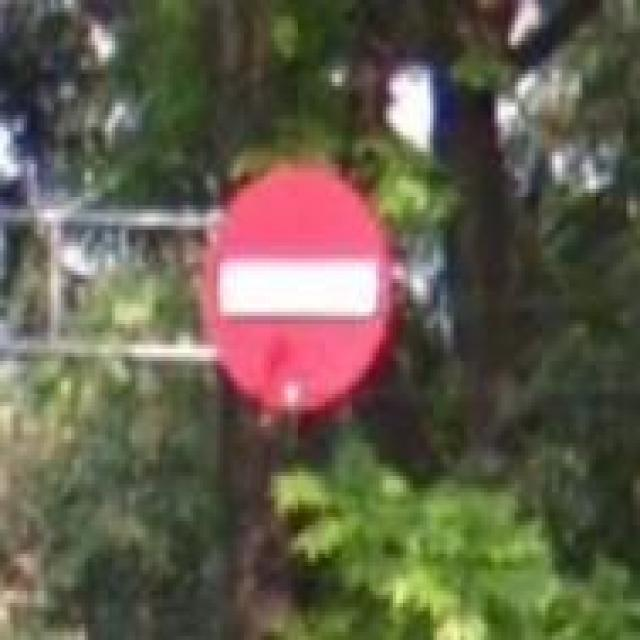traffic sign: (200, 160, 390, 410)
